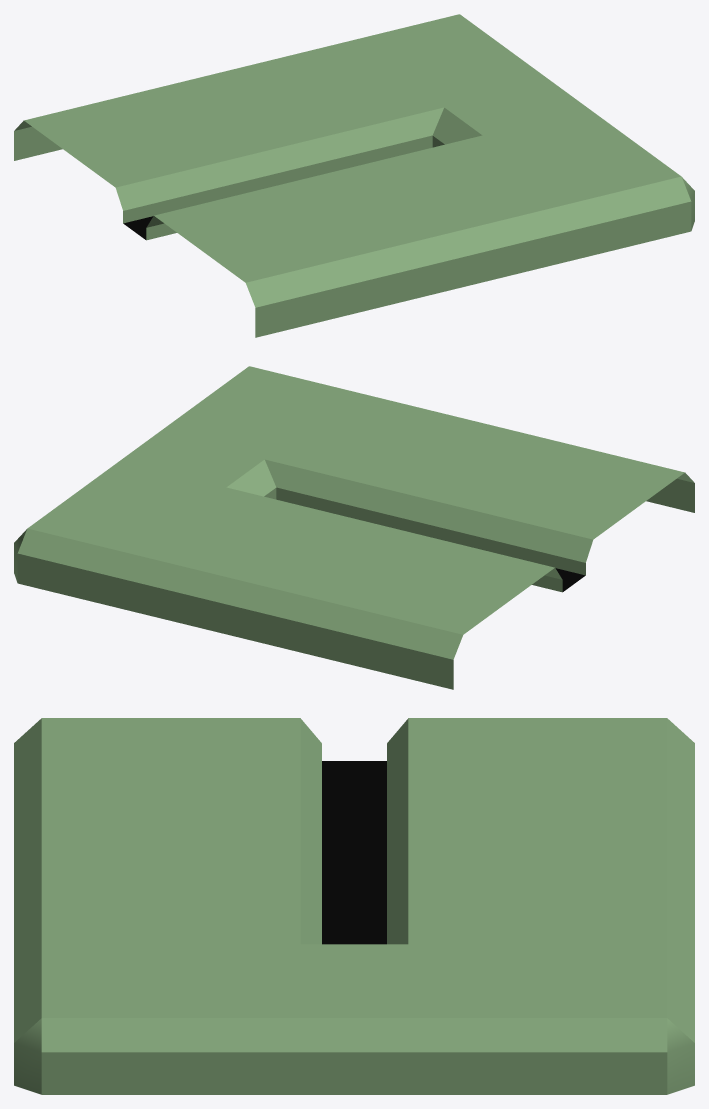
The model's file is SpinTrap_End.fbx.
3 views of the same model, one above another, from view 1: azimuth 30°, elevation 25°; view 2: azimuth 150°, elevation 25°; view 3: azimuth 270°, elevation 25° (orthographic). The views are drawn at different scales.
Parts seen in each view (by area): view 1: SpinTrap_FloorEnd; view 2: SpinTrap_FloorEnd; view 3: SpinTrap_FloorEnd.
Part boxes in pixels (x1=…): SpinTrap_FloorEnd: x1=14, y1=14, x2=694, y2=337; SpinTrap_FloorEnd: x1=14, y1=366, x2=694, y2=689; SpinTrap_FloorEnd: x1=14, y1=718, x2=694, y2=1094.
Size of the model in its own units: 66.1 by 6.72 by 61.51.
